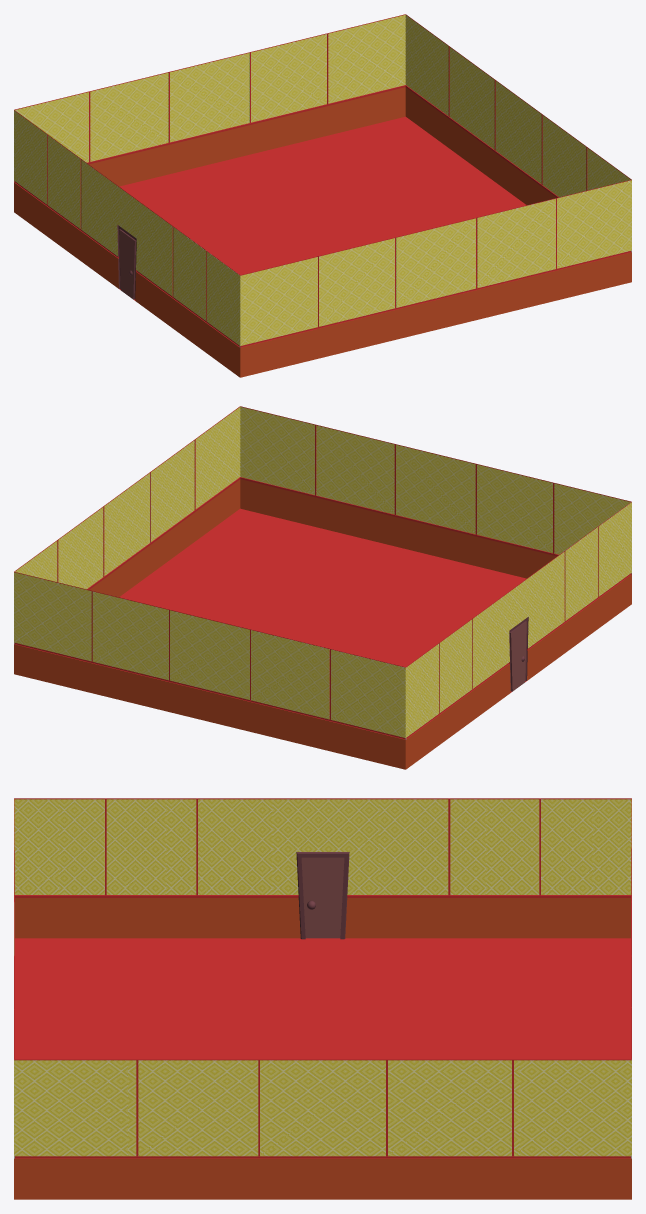
Rendered from Room.fbx.
The picture shows the model from 3 angles, top to bottom: view 1: azimuth 30°, elevation 25°; view 2: azimuth 150°, elevation 25°; view 3: azimuth 270°, elevation 25°; orthographic projection. The views are drawn at different scales.
Visible parts, largest first — view 1: Plane; view 2: Plane; view 3: Plane.
Part boxes in pixels (box(x1,y1,x2,y2)): Plane: box(14, 14, 631, 377); Plane: box(14, 406, 631, 769); Plane: box(14, 798, 631, 1199).
Size of the model in its own units: 1004 by 250 by 1000.
